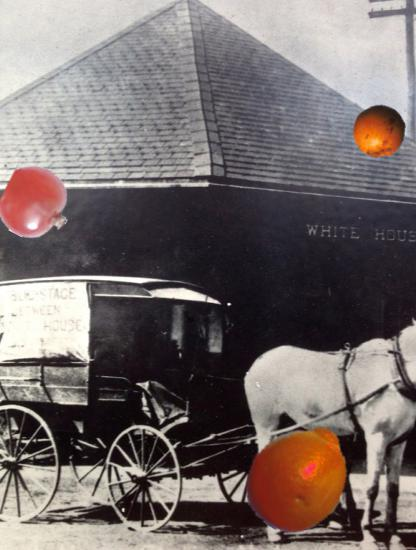Granadilla: (353, 104, 408, 159)
Redcurrant: (0, 168, 72, 240)
Tangelo: (242, 421, 355, 534)
